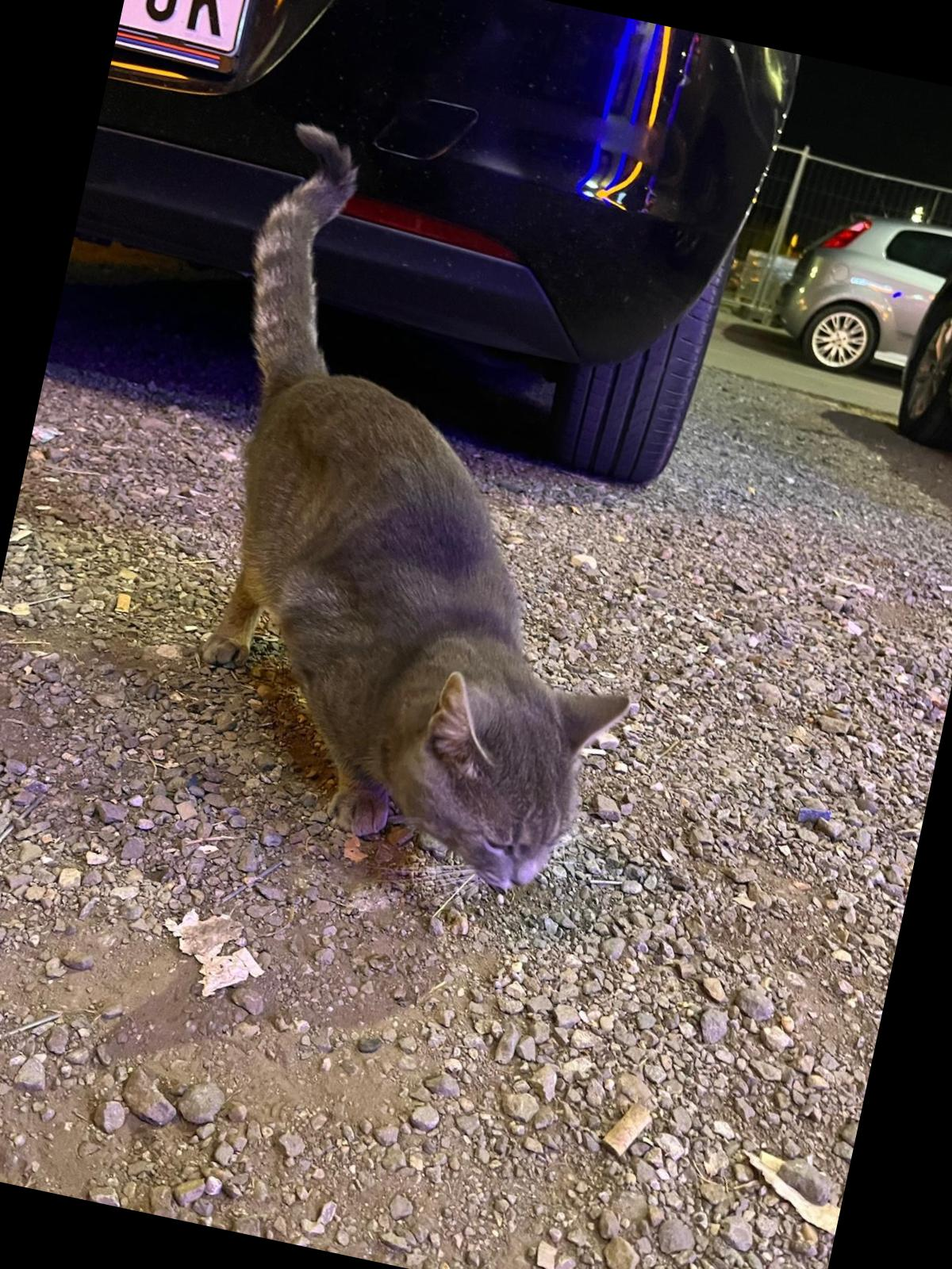macka: (141, 118, 728, 909)
